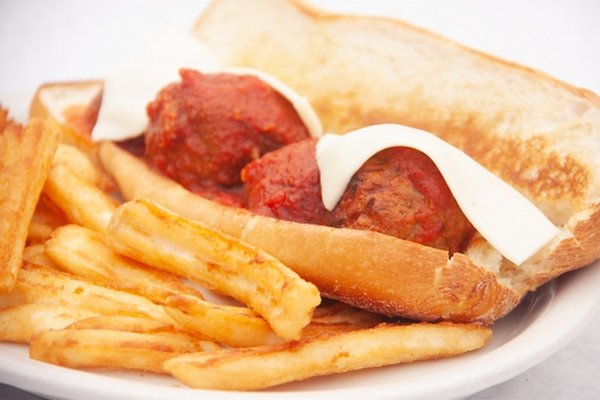burger: (94, 66, 544, 350)
